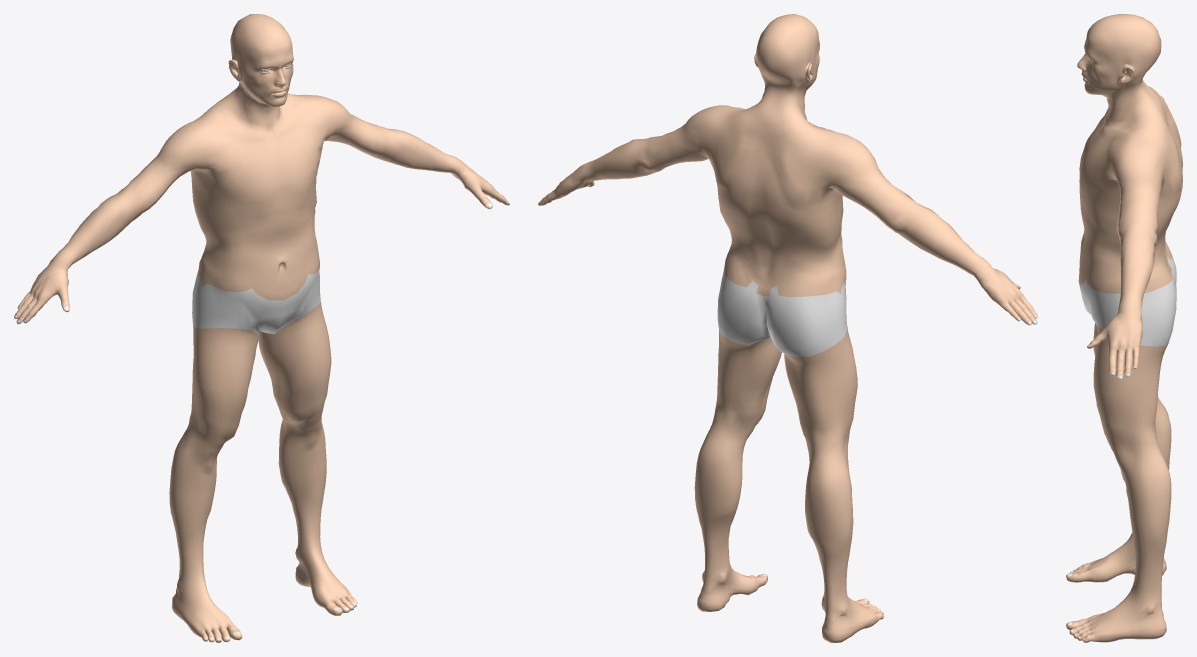
The model's file is Men_L.glb.
3 views of the same model, side by side, from view 1: azimuth 30°, elevation 25°; view 2: azimuth 150°, elevation 25°; view 3: azimuth 270°, elevation 25° (orthographic).
Parts seen in each view (by area): view 1: m_ca01; view 2: m_ca01; view 3: m_ca01.
Part boxes in pixels (x1,y1,x2,y2): m_ca01: (14,14,509,642); m_ca01: (538,14,1037,642); m_ca01: (1066,14,1182,642).
Bounding box in the file's own units: 1.58 × 1.81 × 0.3262.
Materials: 10 (1 with a texture image).
